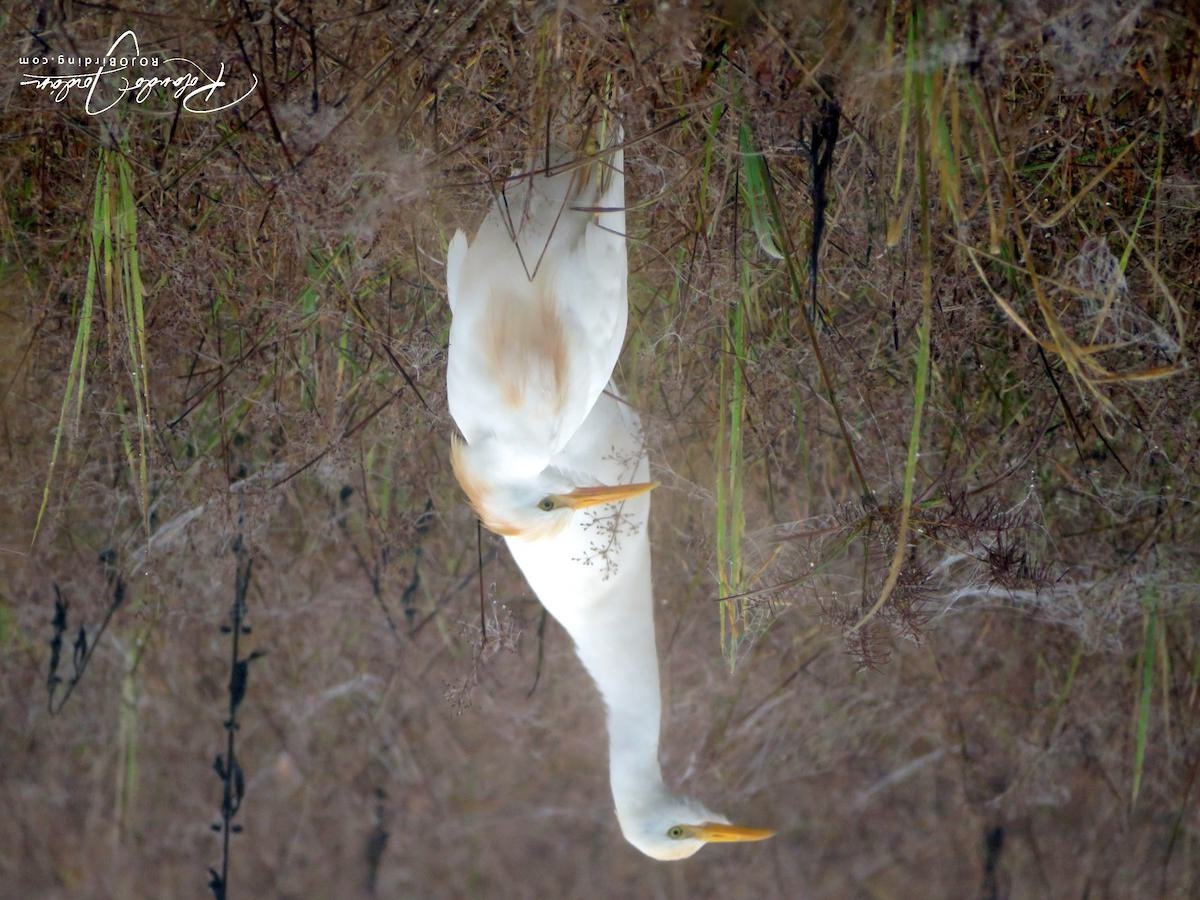egret: (426, 126, 666, 539), (508, 543, 781, 871)
